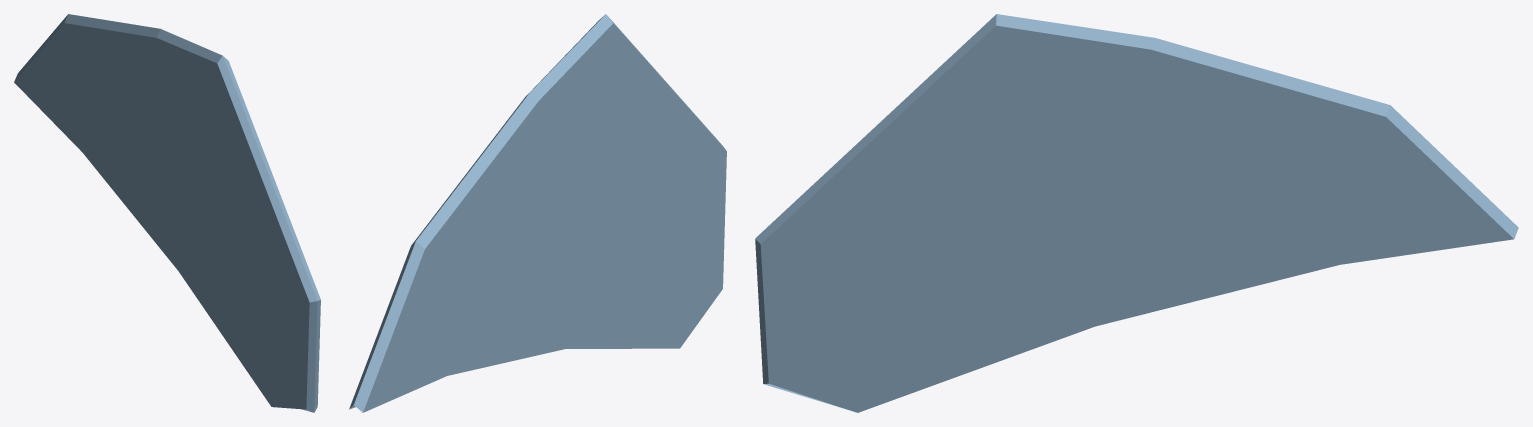
File: keel.FBX
3 views of the same model, side by side, from view 1: azimuth 30°, elevation 25°; view 2: azimuth 150°, elevation 25°; view 3: azimuth 270°, elevation 25° (orthographic). The views are drawn at different scales.
Parts seen in each view (by area): view 1: Line01 35grad; view 2: Line01 35grad; view 3: Line01 35grad.
Boxes of the visible parts, <box> form: Line01 35grad: <box>14,14,320,412</box>; Line01 35grad: <box>349,14,726,412</box>; Line01 35grad: <box>755,14,1518,412</box>.
Bounding box in the file's own units: 0.00145 × 0.0663 × 0.0379.
